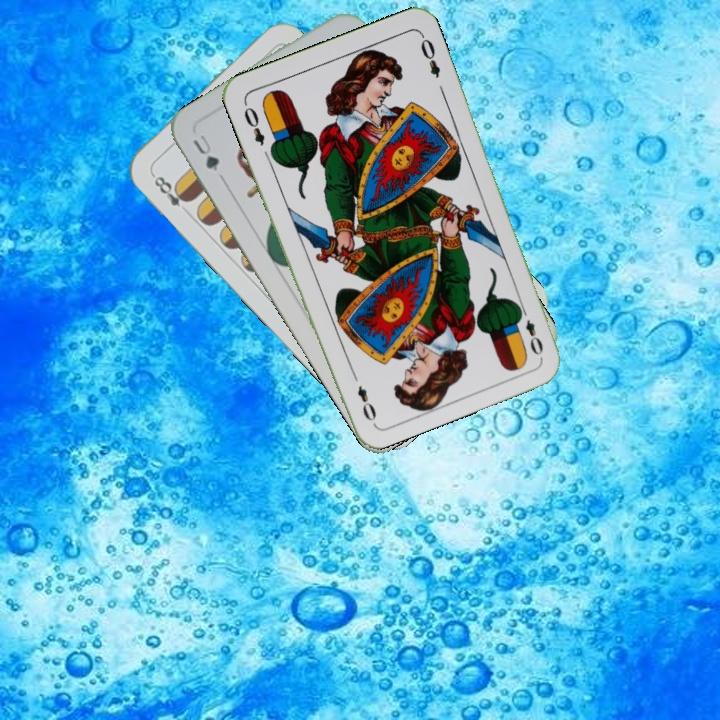E8: (147, 170, 194, 210)
EO: (514, 302, 546, 358), (239, 102, 268, 148)
GU: (188, 130, 226, 182)
